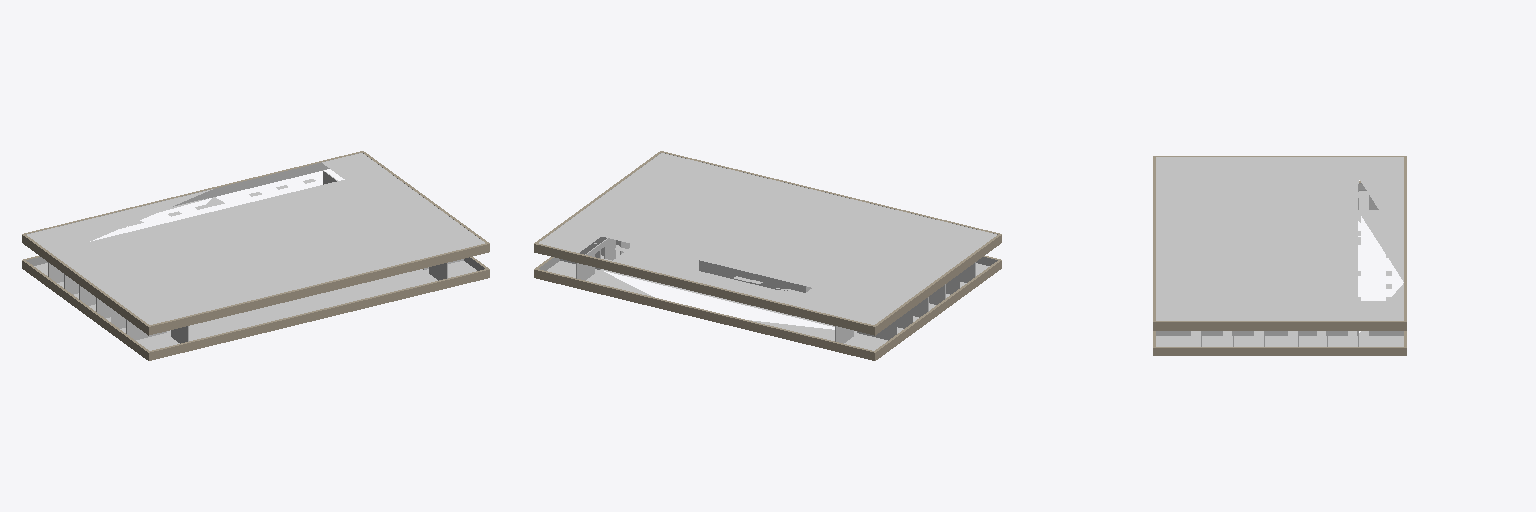
File: Envelope_WWR25p_9ft.obj
3 renders of one model, left to right at view 1: azimuth 30°, elevation 25°; view 2: azimuth 150°, elevation 25°; view 3: azimuth 270°, elevation 25°, orthographic.
Visible parts, largest first — view 1: floor9ft; view 2: floor9ft; view 3: floor9ft.
Part boxes in pixels (bbox=[...]): floor9ft: bbox=[22, 151, 489, 360]; floor9ft: bbox=[534, 151, 1001, 360]; floor9ft: bbox=[1153, 156, 1406, 355].
Size of the model in its own units: 38.71 by 3.69 by 24.95.